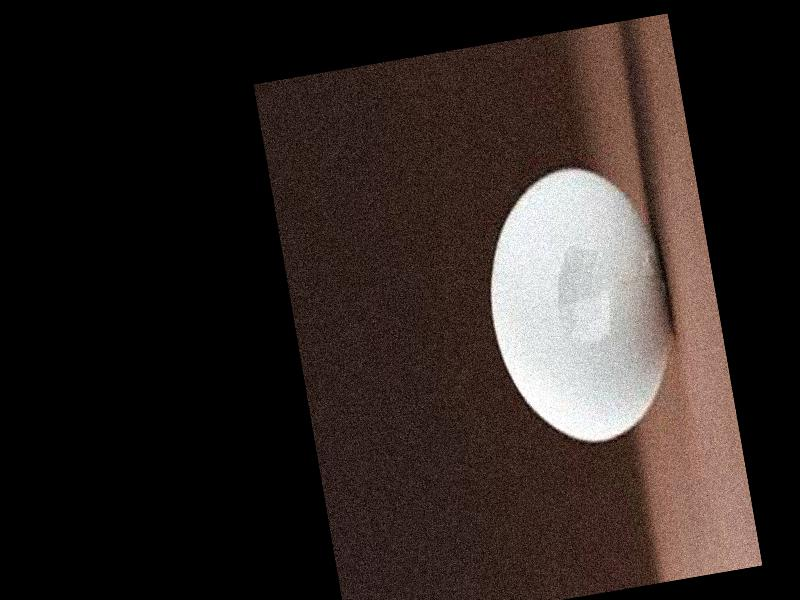Eggs: (470, 159, 690, 455)
